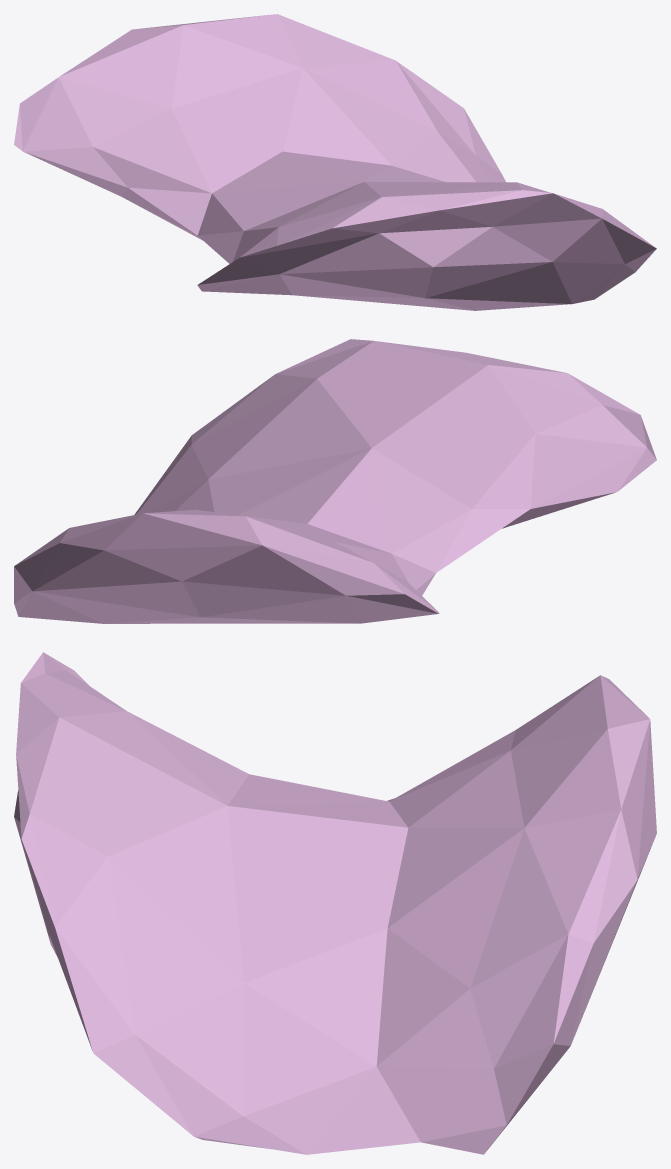
3 renders of one model, top to bottom at view 1: azimuth 30°, elevation 25°; view 2: azimuth 150°, elevation 25°; view 3: azimuth 270°, elevation 25°, orthographic. The views are drawn at different scales.
Parts seen in each view (by area): view 1: 607344854.obj; view 2: 607344854.obj; view 3: 607344854.obj.
Part boxes in pixels (x1=…): 607344854.obj: x1=14, y1=14, x2=656, y2=310; 607344854.obj: x1=14, y1=339, x2=656, y2=623; 607344854.obj: x1=14, y1=652, x2=656, y2=1154.
Size of the model in its own units: 370 by 157 by 345.
